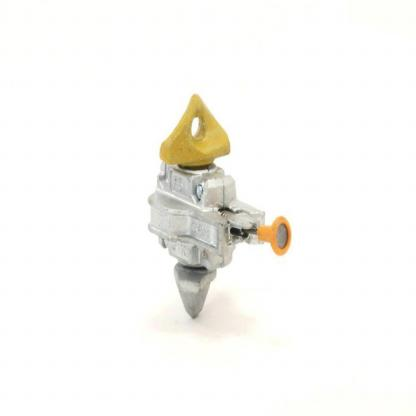Twistlock: (146, 91, 296, 323)
